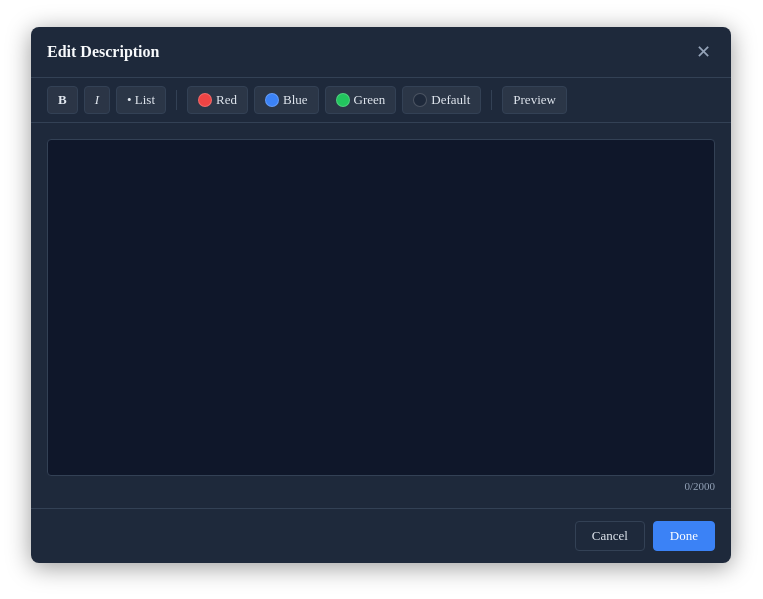
it: DescriptionModal › preview mode › shows "Nothing to preview" for empty text
Click the button with test id "toolbar-preview-toggle": (535, 100) left=502, top=86, right=567, bottom=114
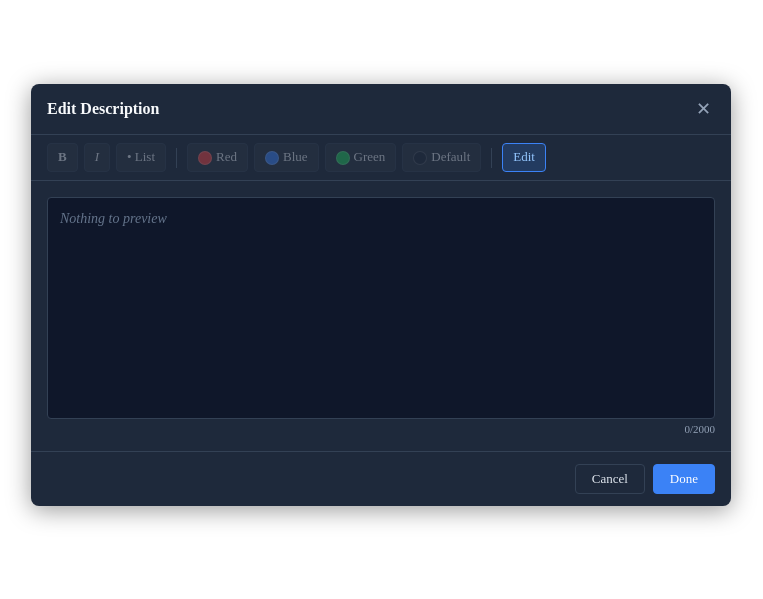
Check: the element with test id "description-modal-preview" reads "Nothing to preview", box left=60, top=211, right=167, bottom=226
